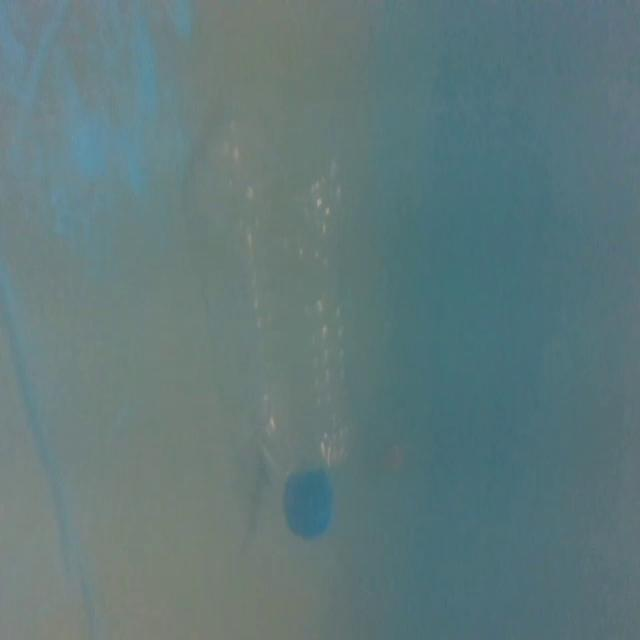plastic bottle: (210, 104, 374, 547)
